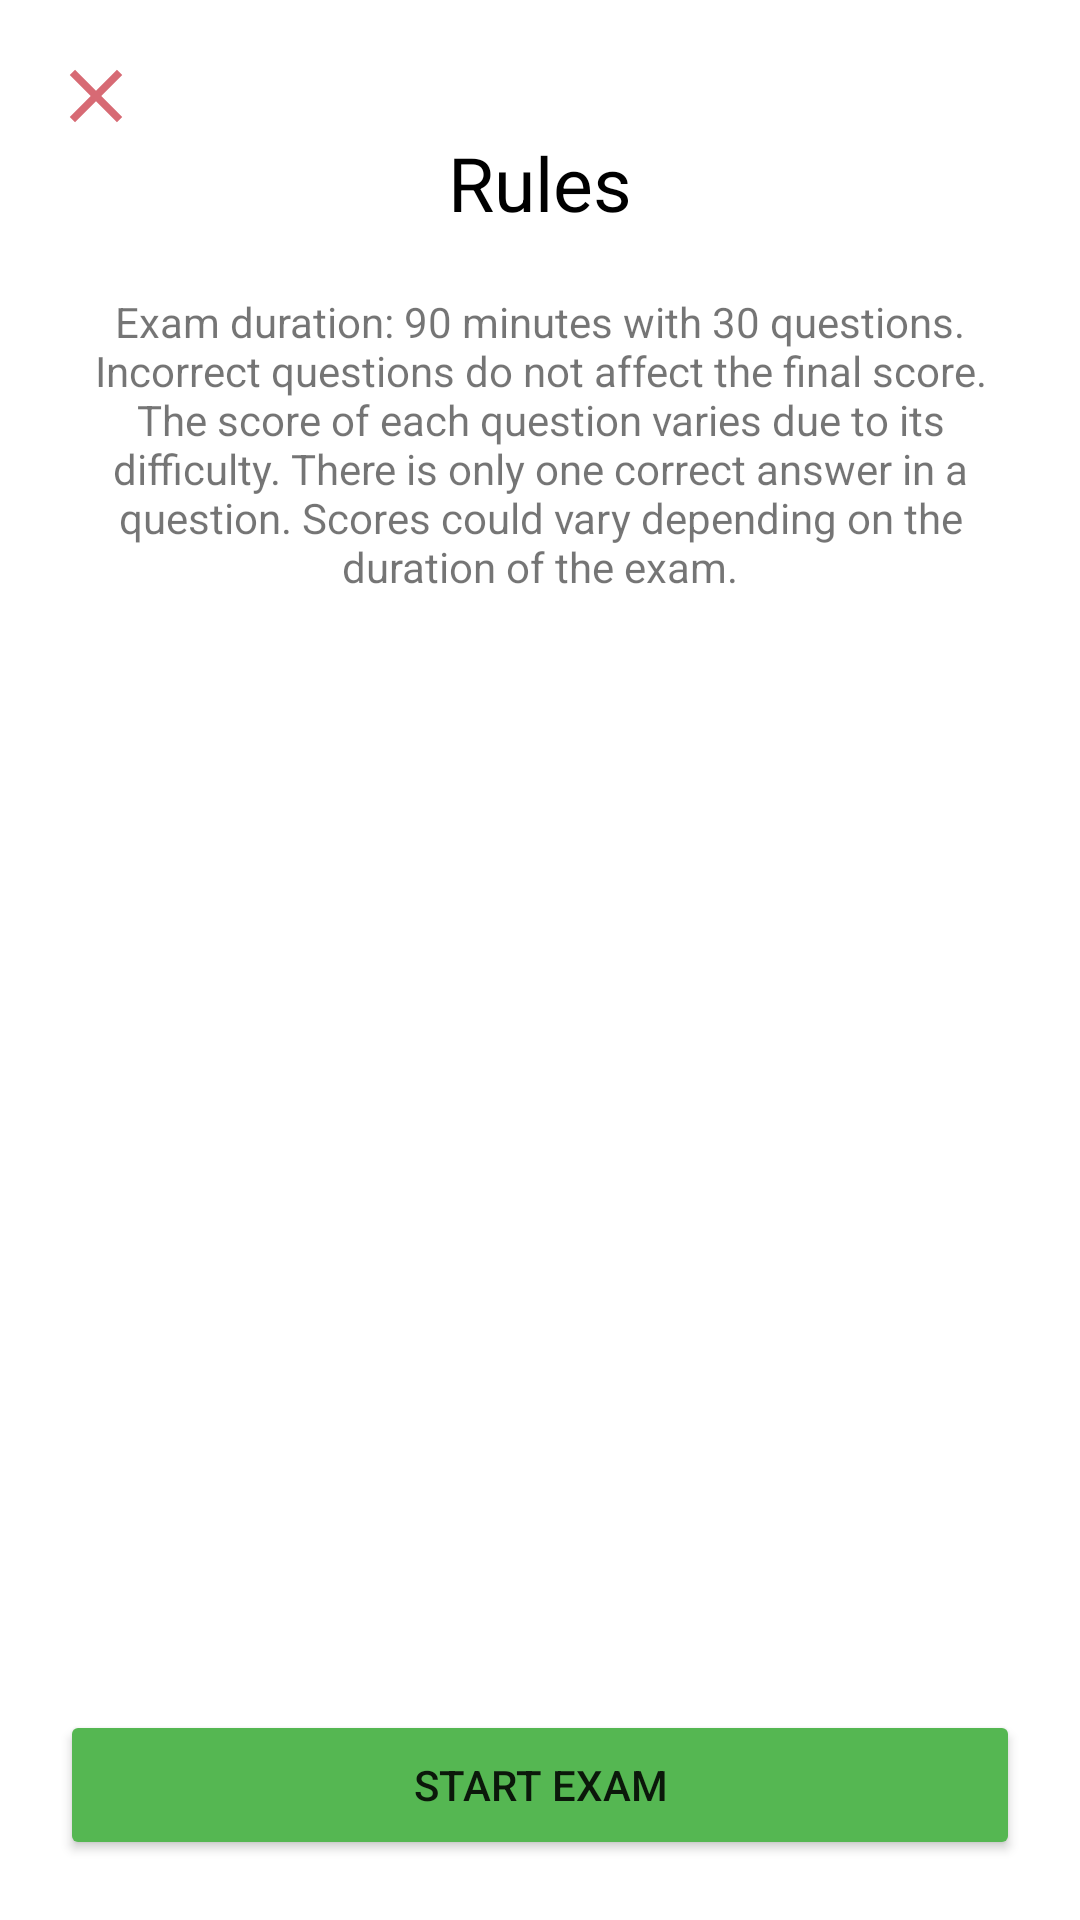

Icons on this 1080*1920 Android screen, each with its box as bbox=[x1, y1, x2, y2]:
close: bbox=[70, 70, 122, 122]
